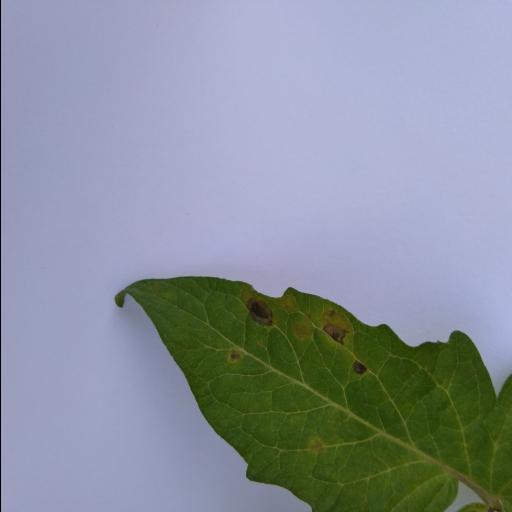disease_tomato: (110, 272, 512, 512)
